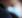with_mask: (1, 1, 22, 18)
